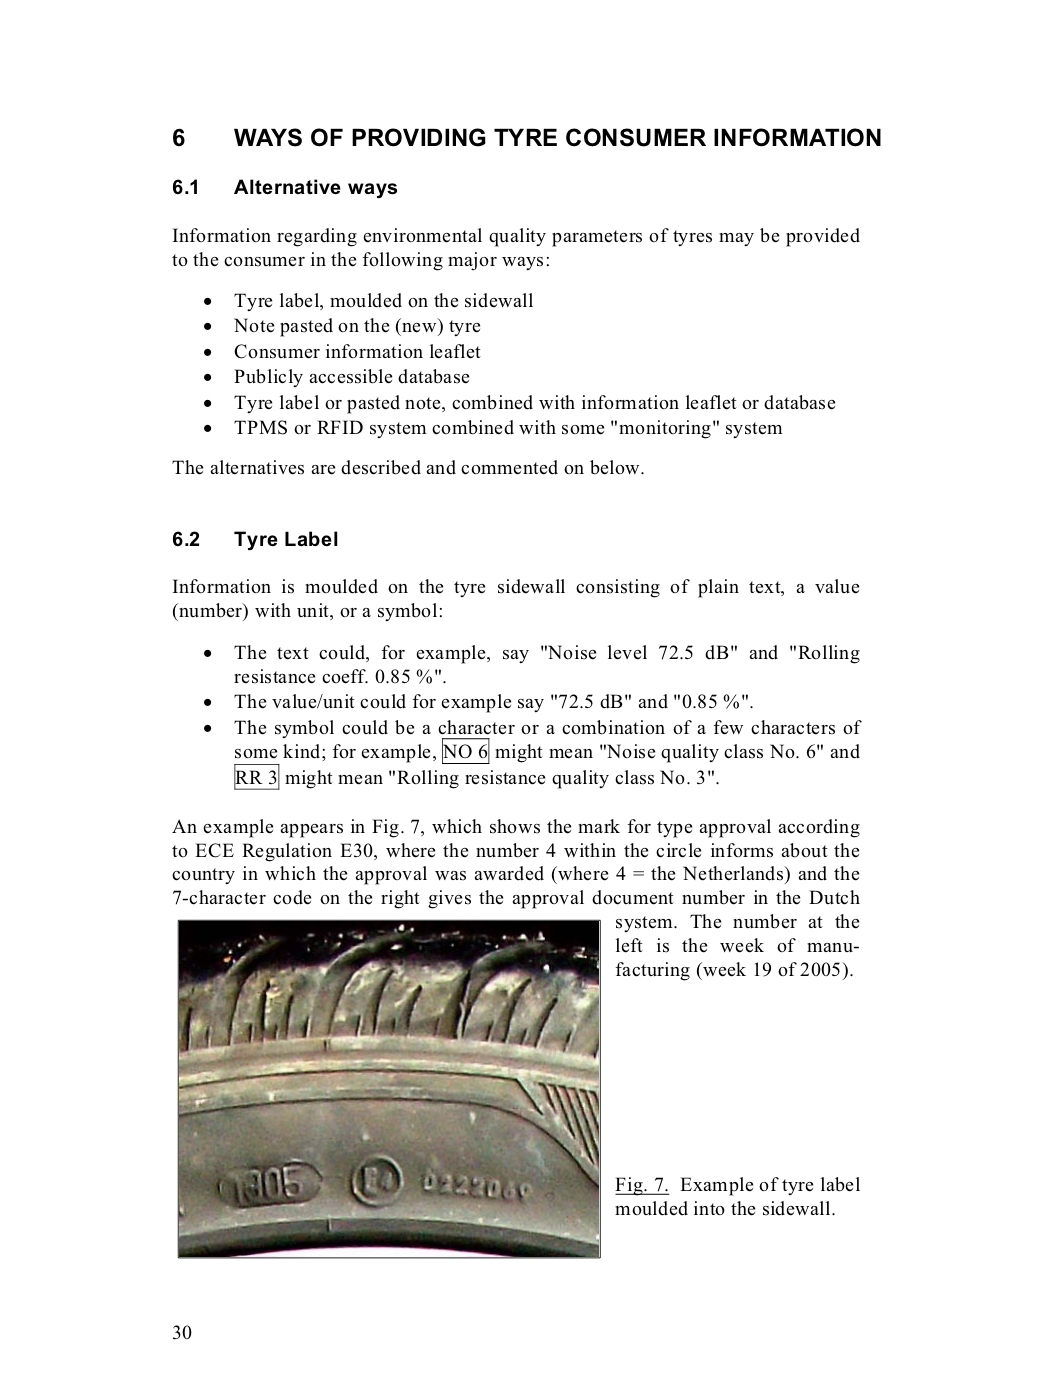figure: (177, 919, 600, 1258)
